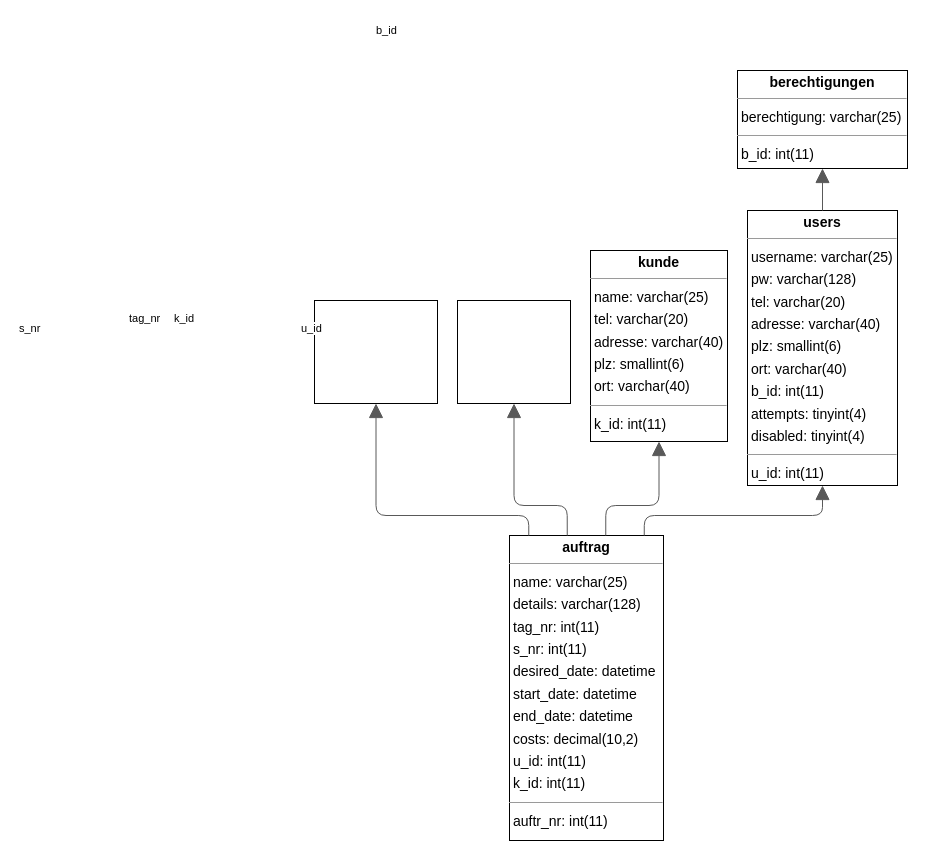
This 925x858 diagram has some shape labels left out. The centre of each missing label's shape, as x and y in pixels:
"state state: varchar(25) s_nr: int(11)" belongs at [376,352].
"tags tag: varchar(25) tag_nr: int(11)" belongs at [513,352].
